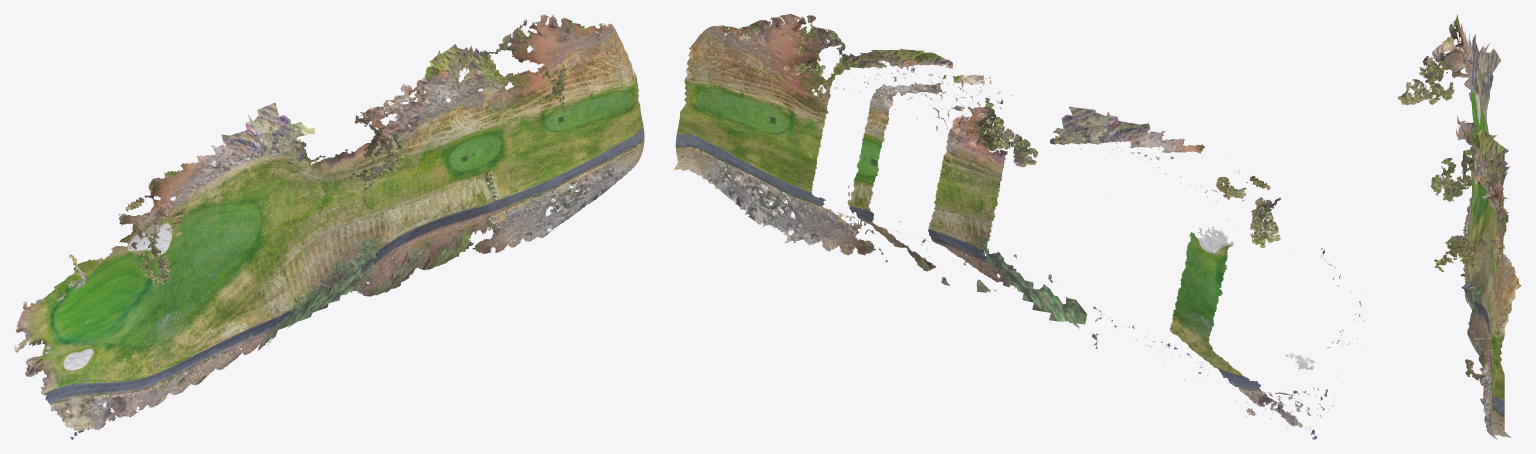
3 views of the same model, side by side, from view 1: azimuth 30°, elevation 25°; view 2: azimuth 150°, elevation 25°; view 3: azimuth 270°, elevation 25° (orthographic). The views are drawn at different scales.
Size of the model in its own units: 187 by 82.75 by 27.01.
12 materials, 12 textured.
